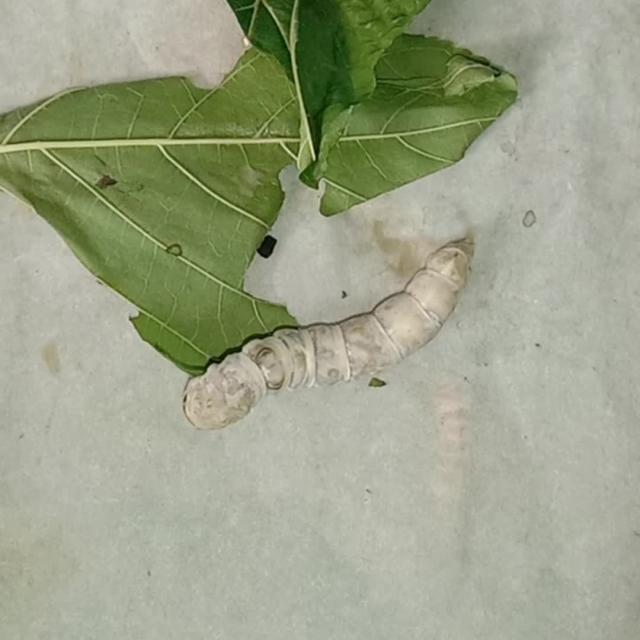Grasserie: (160, 206, 502, 445)
